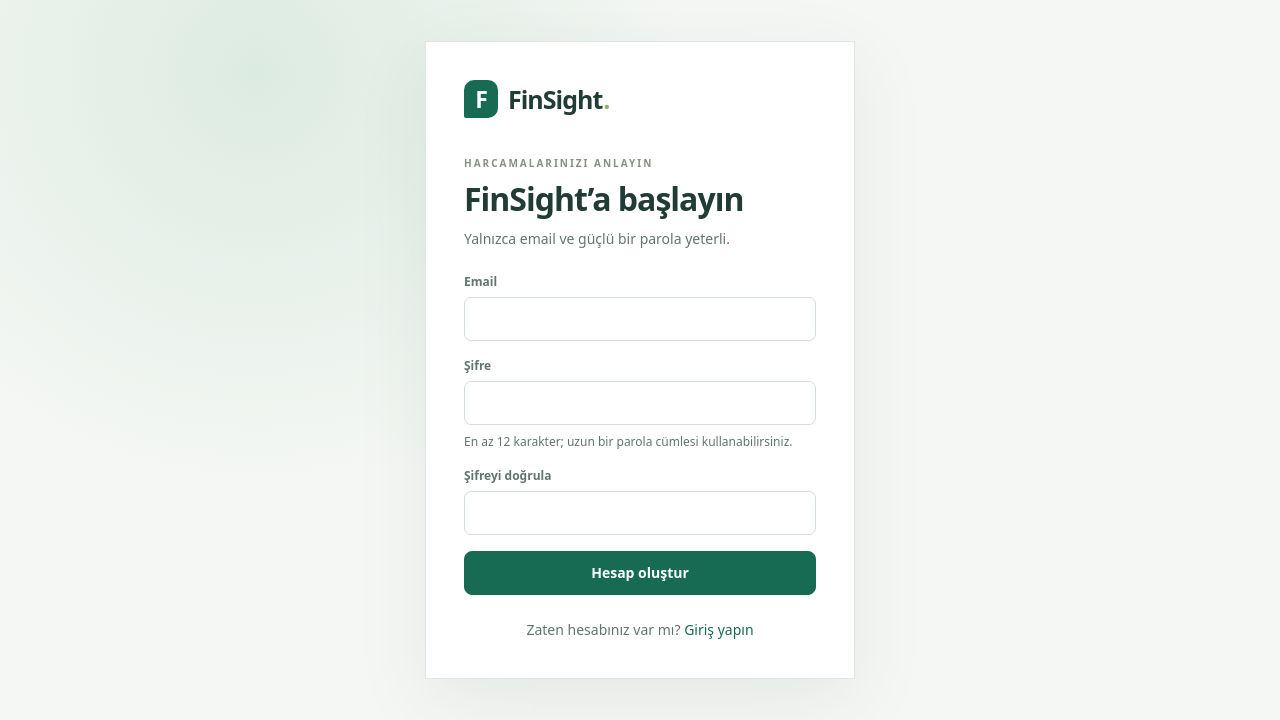
authentication routes and forms › registration sends the expected payload without profile data
Type "synthetic@example.com" into the field labelled "Email" at (640, 319), box 464,297 -> 816,341
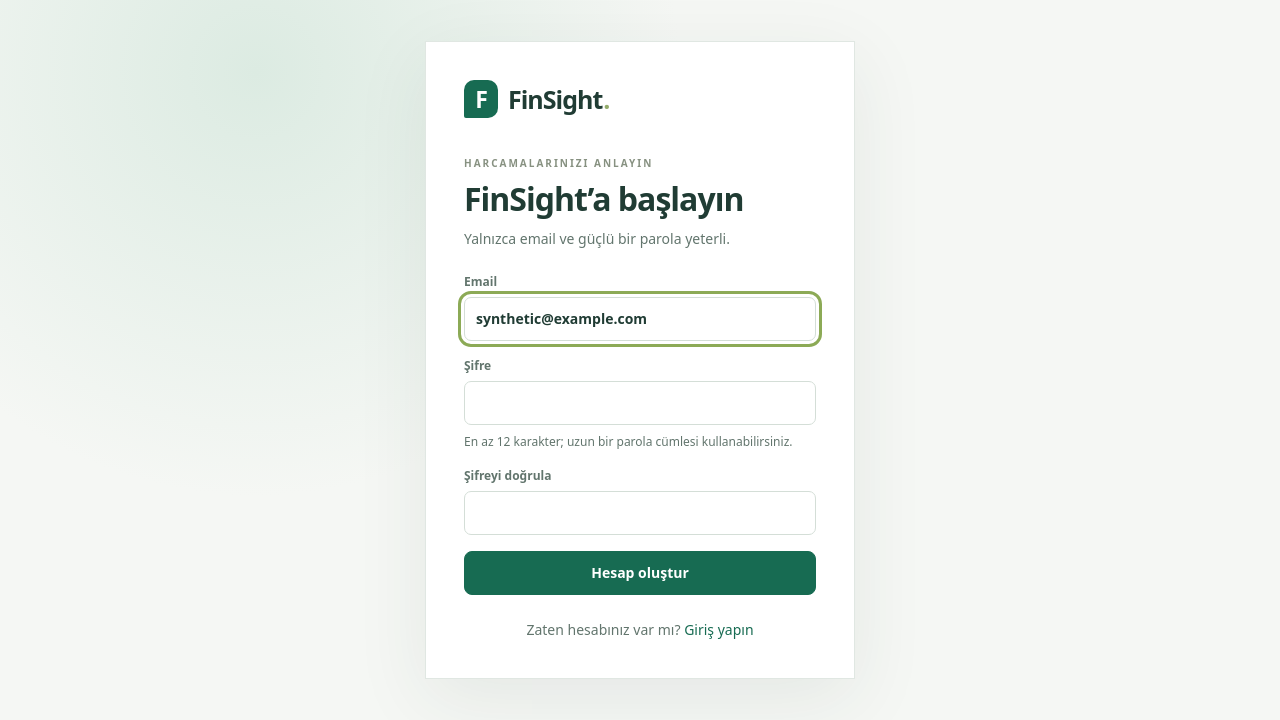
Type "a long synthetic passphrase" into the password field labelled "Şifre" at (640, 403), box 464,381 -> 816,425
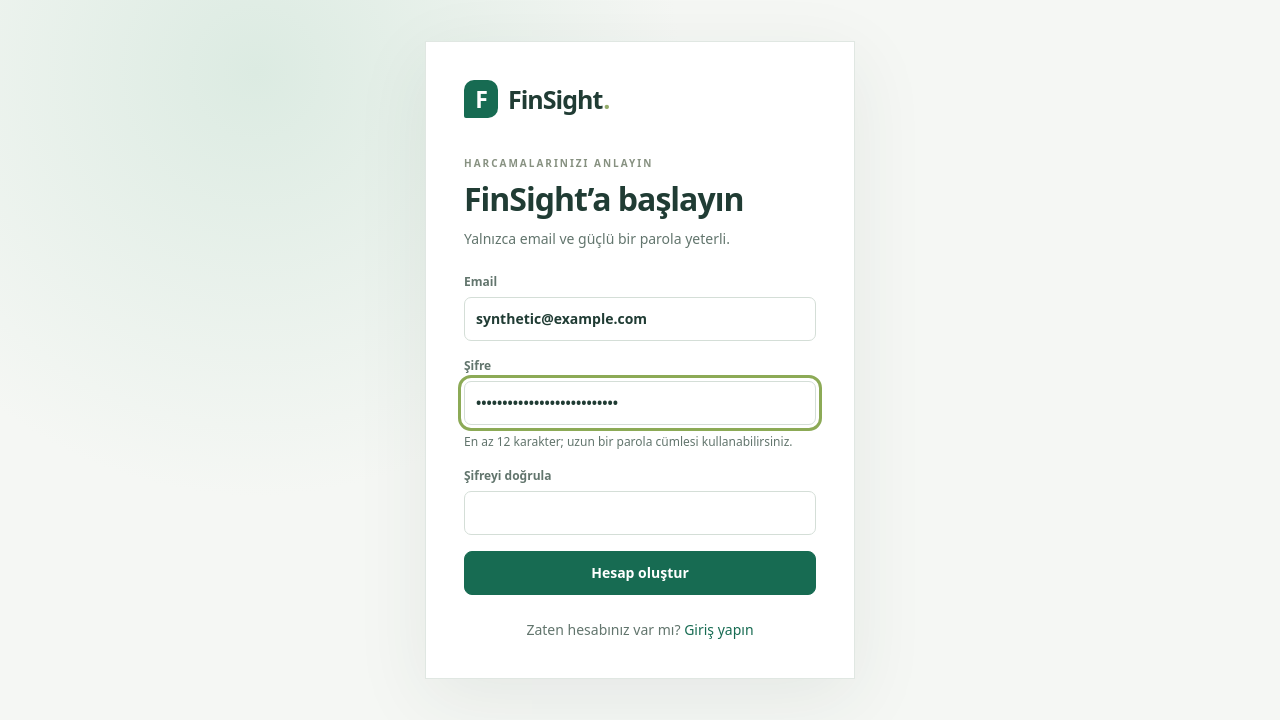
Type "a long synthetic passphrase" into the password field labelled "Şifreyi doğrula" at (640, 513), box 464,491 -> 816,535
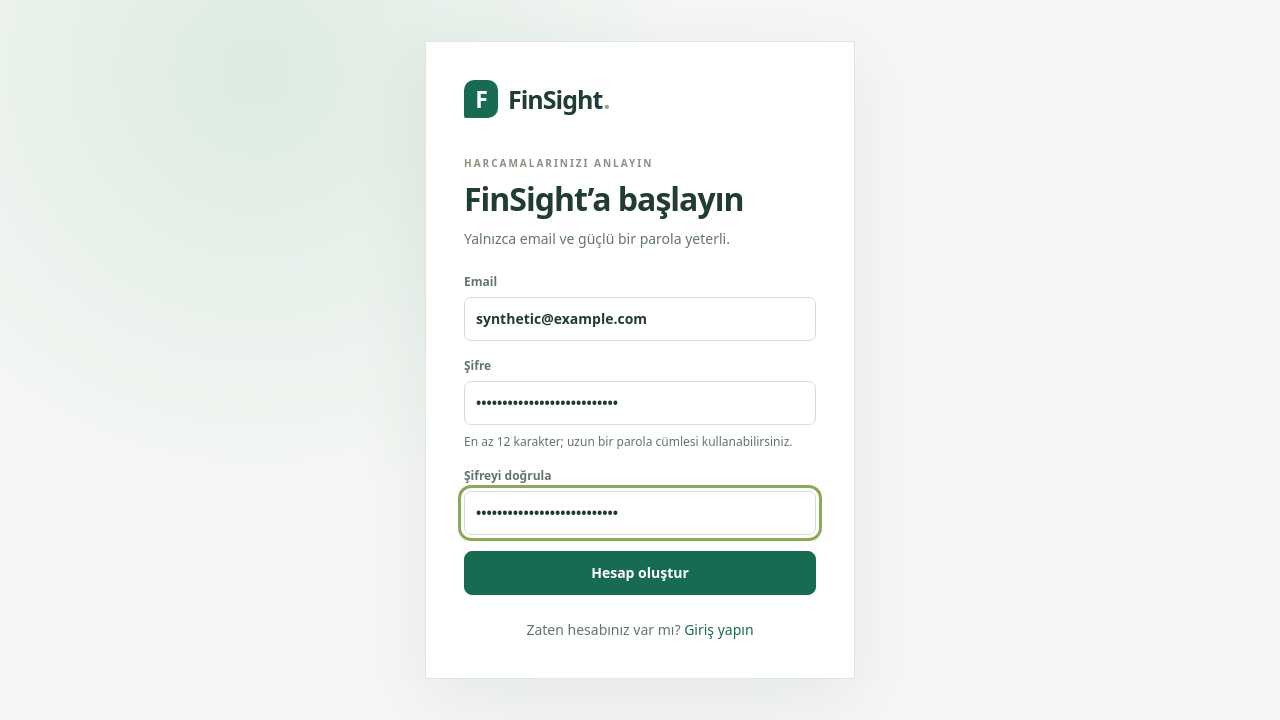
Click the button "Hesap oluştur" at (640, 573), box 464,551 -> 816,595
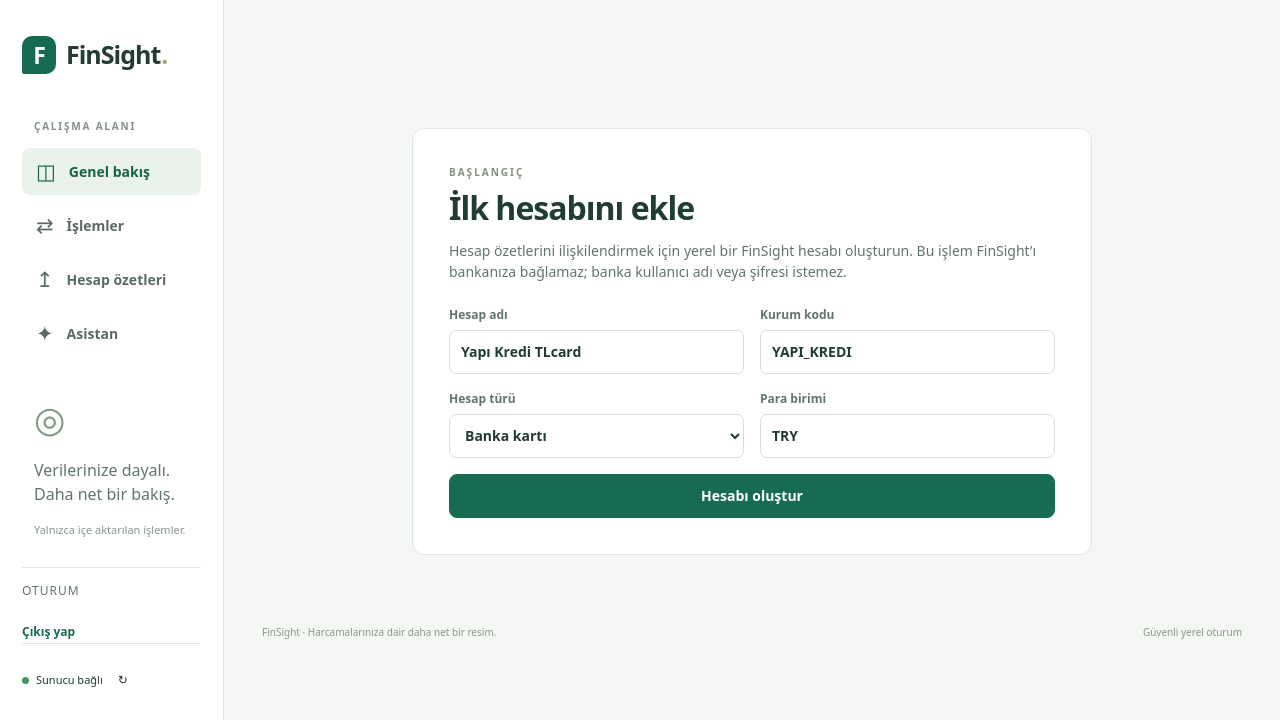
Expected: the heading "İlk hesabını ekle" is shown, 449,186 -> 694,229
